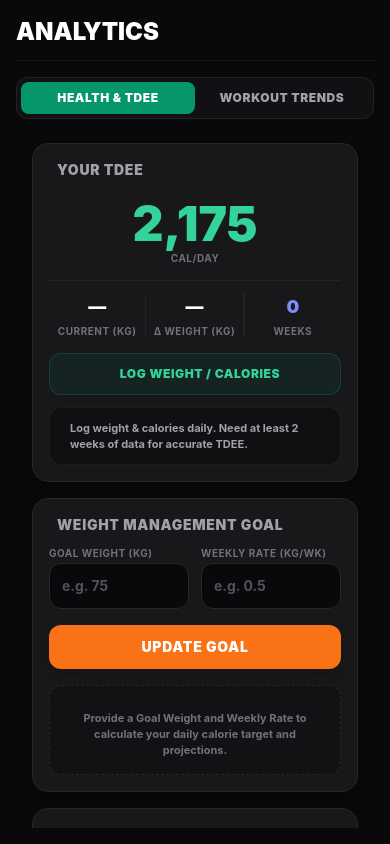
Test: ProgressScreen › switches to Workouts sub-tab and renders PRs per weight unit
Click "Workout Trends" tab
Click the text "Workout Trends": (282,98) [220, 90, 344, 106]
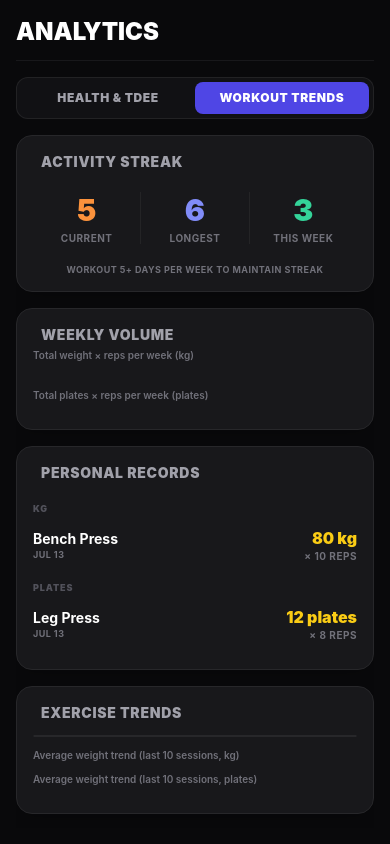
expect the text "Bench Press" is shown: met, box [33, 530, 118, 546]
expect the text "80 kg" is shown: met, box [312, 526, 357, 550]
expect the text "× 10 reps" is shown: met, box [304, 550, 357, 562]
